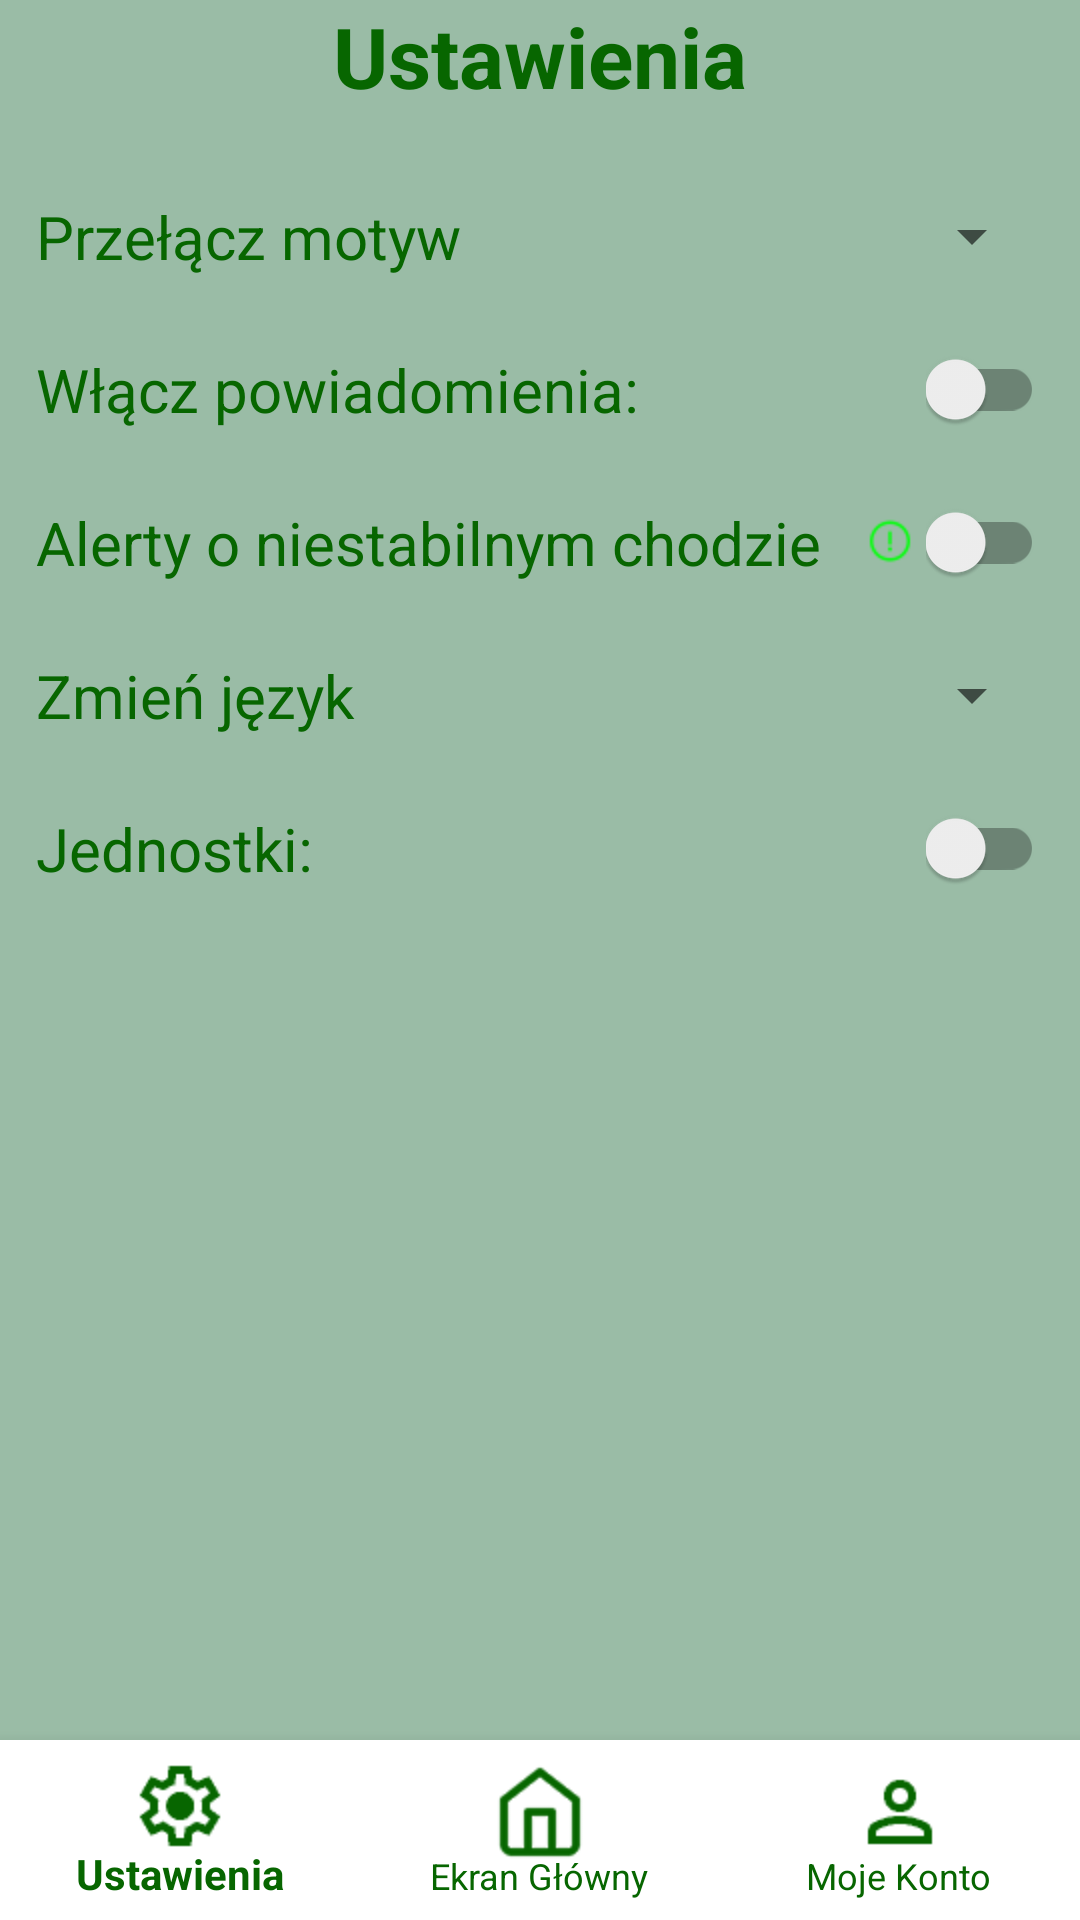

Screen size 1080w x 1920h. Icon name, then its center in pixels as (x=x, y=y):
mark: (x=890, y=541)
